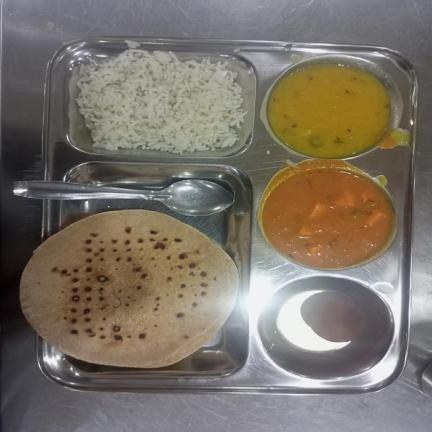Chana Dal: (269, 60, 393, 156)
Paneer: (260, 165, 393, 271)
Plate: (36, 37, 418, 391)
Rice: (76, 39, 249, 153)
Roti: (20, 208, 240, 368)
